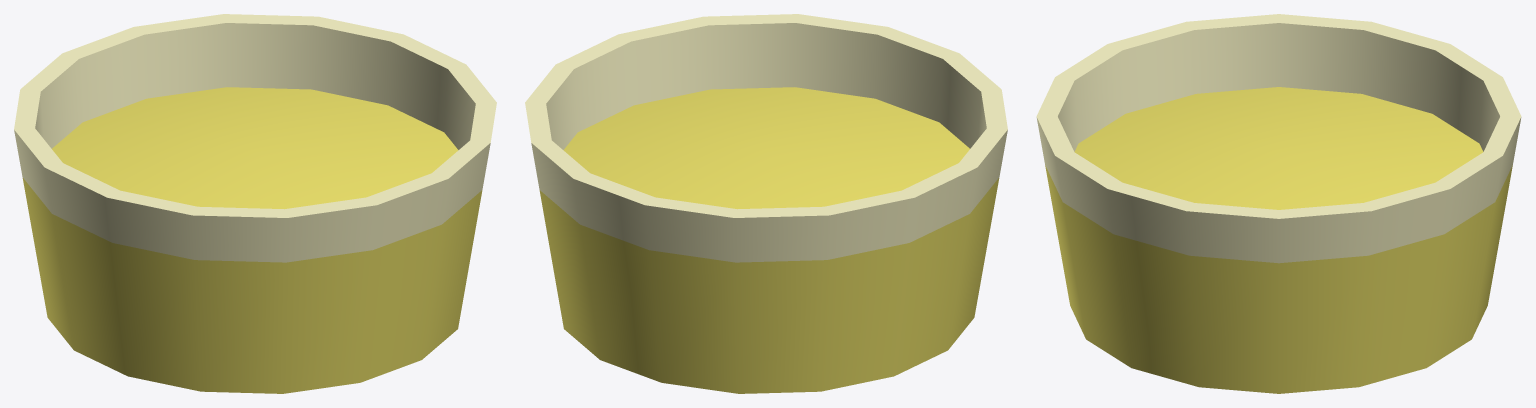
File: Hummus.fbx
3 views of the same model, side by side, from view 1: azimuth 30°, elevation 25°; view 2: azimuth 150°, elevation 25°; view 3: azimuth 270°, elevation 25° (orthographic).
Visible parts, largest first — view 1: Hummus; view 2: Hummus; view 3: Hummus.
Boxes of the visible parts, x1,y1,x2,y2 form: Hummus: [14, 14, 496, 393]; Hummus: [525, 14, 1007, 393]; Hummus: [1036, 14, 1521, 393].
Size of the model in its own units: 9.19 by 3.96 by 9.19.
